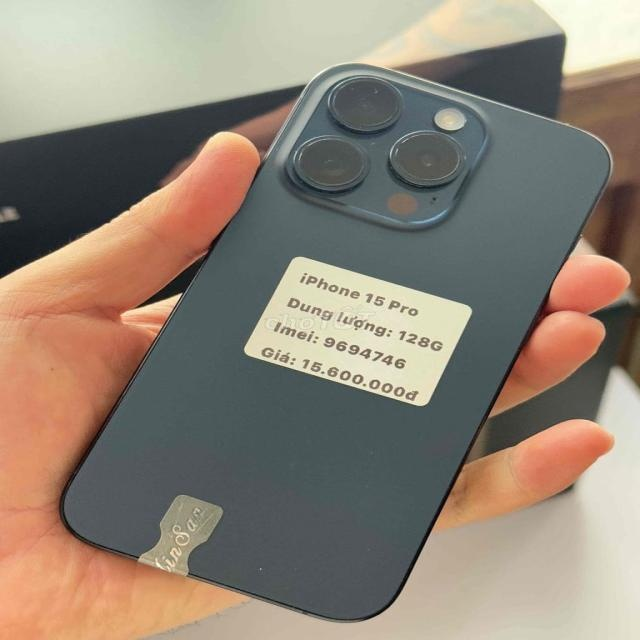scratch: (367, 138, 380, 147), (251, 564, 267, 571)
